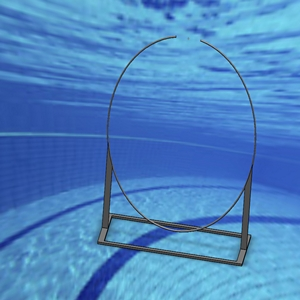circle: (95, 33, 258, 267)
